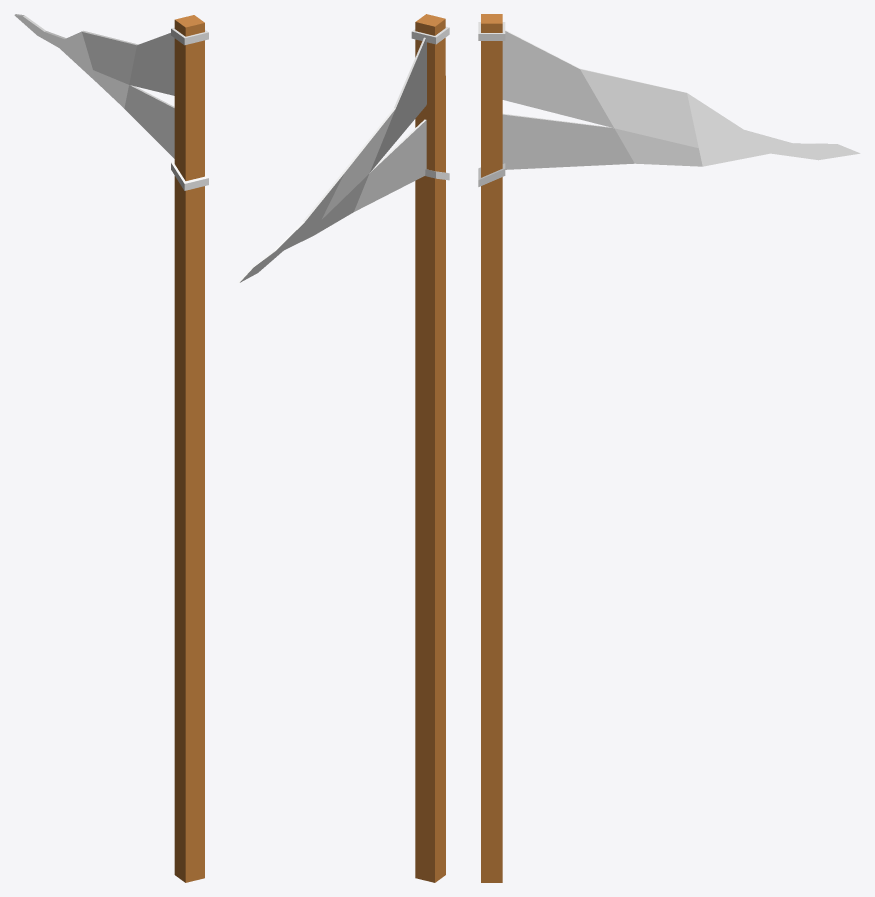
Rendered from Flag.fbx.
The picture shows the model from 3 angles, left to right: view 1: azimuth 30°, elevation 25°; view 2: azimuth 150°, elevation 25°; view 3: azimuth 270°, elevation 25°; orthographic projection.
Parts seen in each view (by area): view 1: Flag; view 2: Flag; view 3: Flag.
Part boxes in pixels (x1,y1,x2,y2): Flag: [14, 14, 208, 882]; Flag: [237, 14, 449, 882]; Flag: [478, 14, 860, 882].
Bounding box in the file's own units: 10.91 × 345 × 139.
